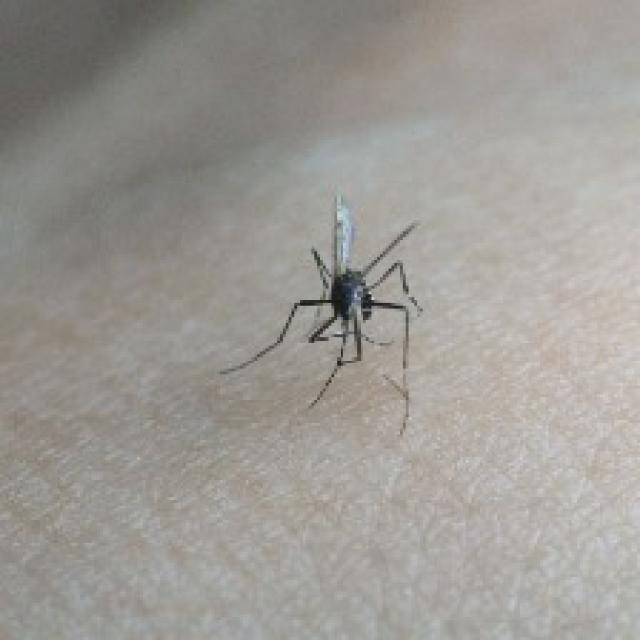aedes: (217, 189, 426, 434)
